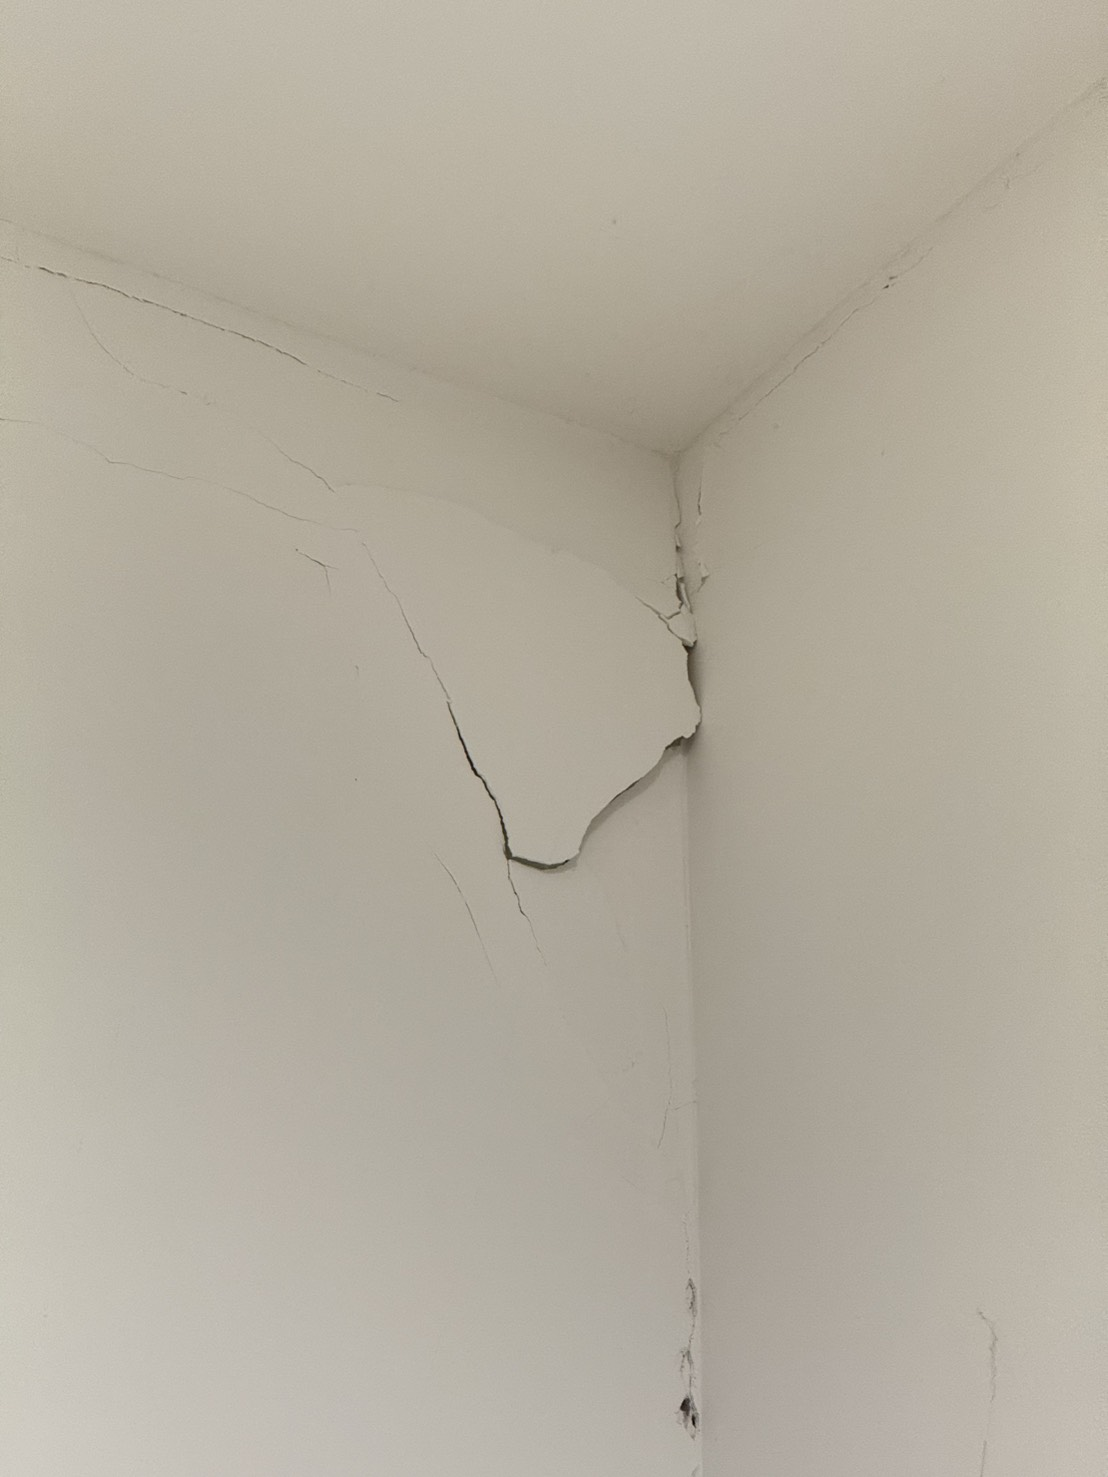Medium: (275, 360, 710, 1200)
